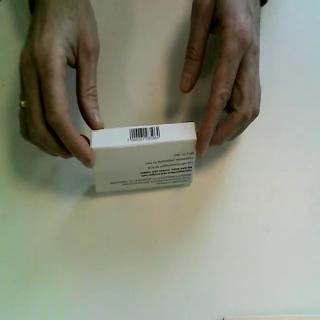oxycontin15mg: (90, 121, 198, 195)
